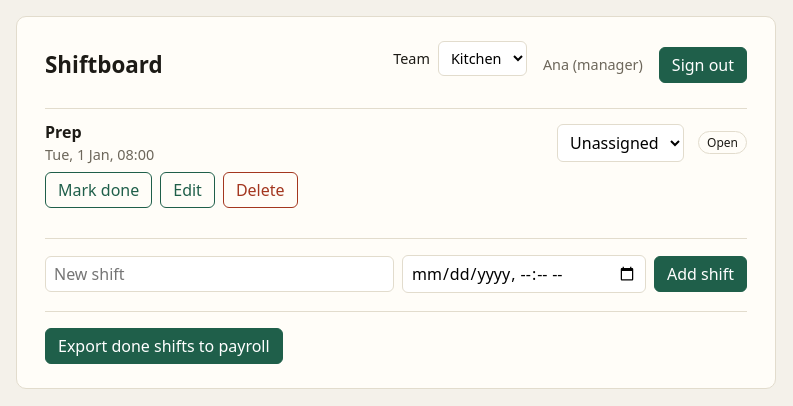
Scenario: shift list cache after a mutation › shows the new status without a reload after Mark done
Click the button "Mark done": (99, 190) [45,172,152,208]
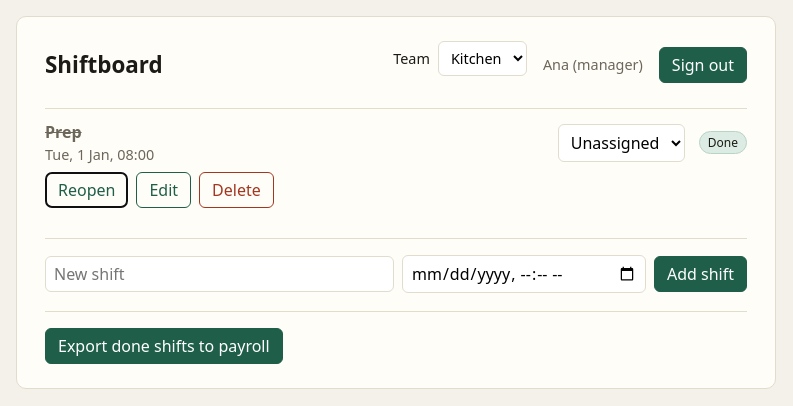
Check: the text "Done" is shown, box [699,131,747,154]
Check: the button "Reopen" is shown, box [45,172,128,208]
